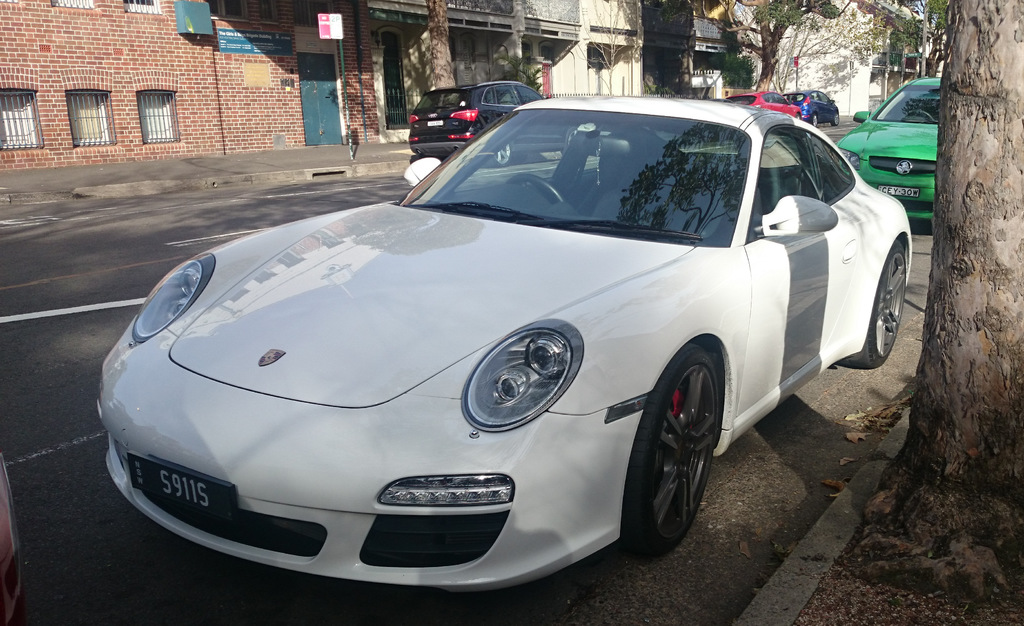Car: (103, 78, 875, 598), (403, 77, 600, 165), (828, 74, 938, 220), (717, 89, 801, 119), (783, 86, 843, 125)
